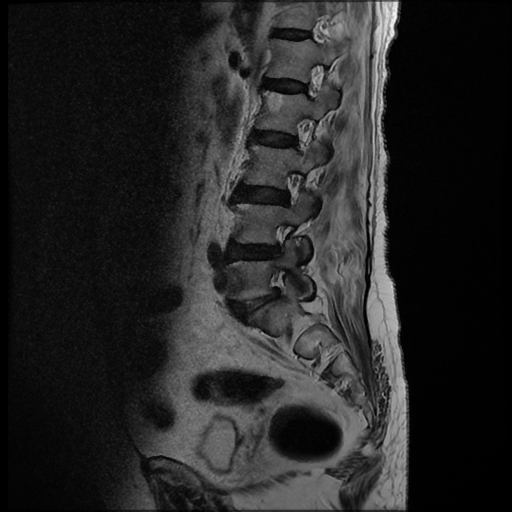LFS0: (274, 164, 309, 213), (288, 110, 320, 163), (298, 60, 334, 105), (261, 263, 298, 304)
LFS1: (263, 215, 298, 264)
